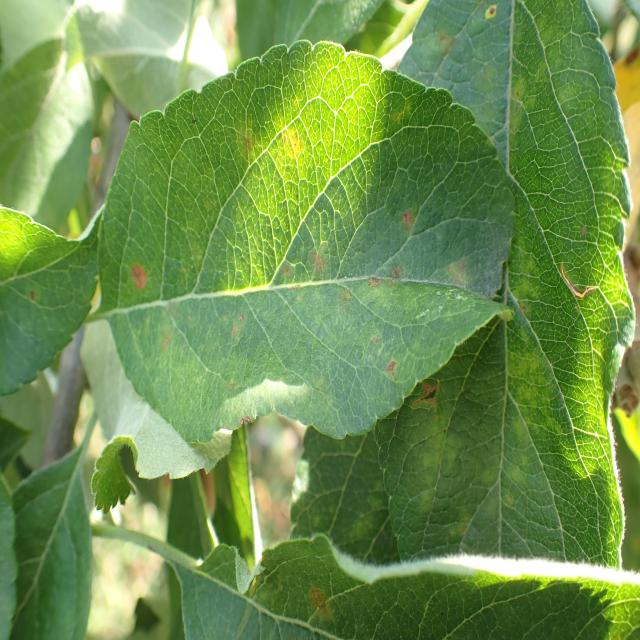scab: (109, 104, 484, 388), (406, 0, 568, 544)
